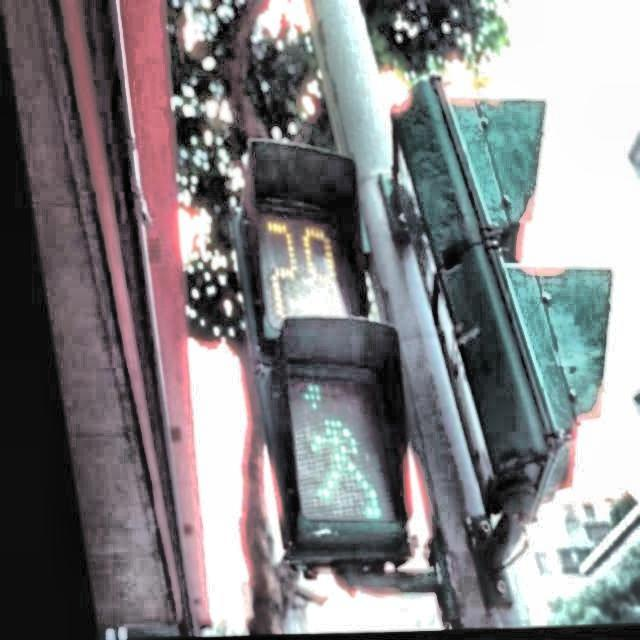semaforo pedestre: (160, 122, 480, 614)
